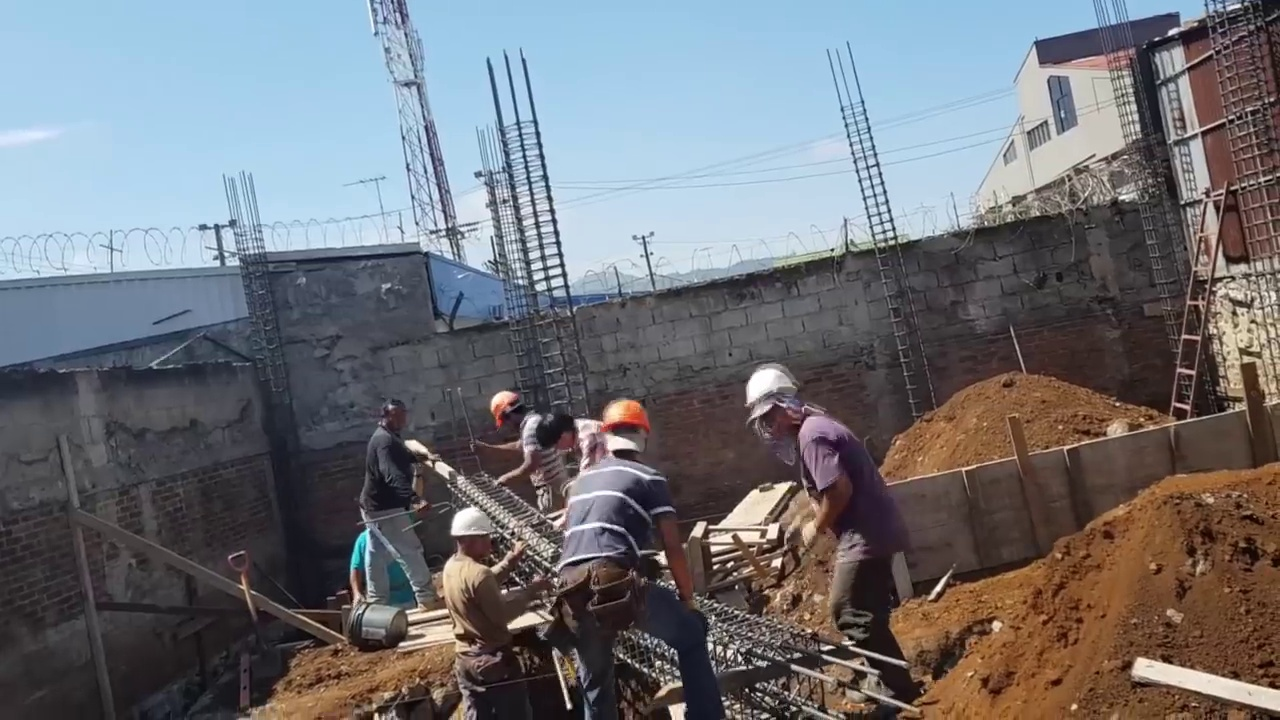helmet: (746, 369, 801, 416), (598, 399, 651, 436), (446, 507, 494, 537), (485, 392, 518, 429)
helmet-off: (536, 411, 576, 451), (376, 400, 410, 436)
helmet-on: (746, 365, 806, 447), (599, 399, 649, 457), (450, 511, 497, 568), (485, 392, 532, 433)
person: (551, 394, 735, 720), (746, 364, 916, 691), (443, 509, 531, 709), (361, 403, 438, 600), (483, 394, 578, 511), (342, 502, 403, 608), (535, 406, 609, 474)
